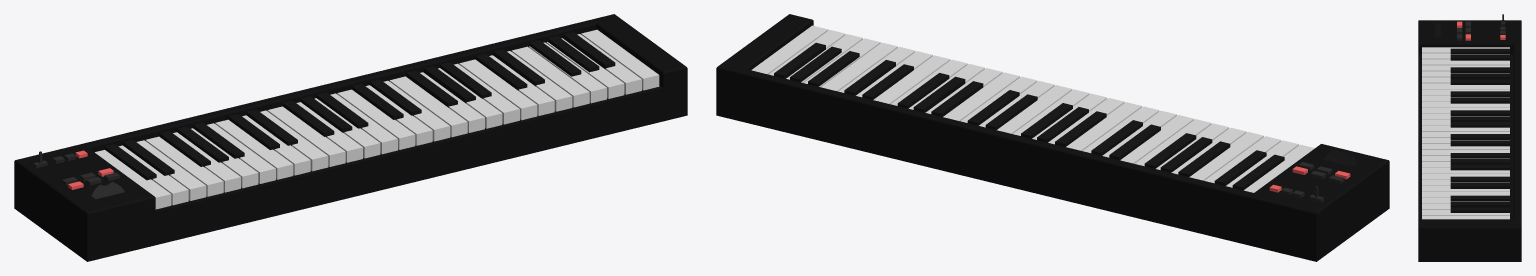
File: Midi Keyboard09.fbx
3 views of the same model, side by side, from view 1: azimuth 30°, elevation 25°; view 2: azimuth 150°, elevation 25°; view 3: azimuth 270°, elevation 25° (orthographic). The views are drawn at different scales.
Visible parts, largest first — view 1: 49keysmidi.010; view 2: 49keysmidi.010; view 3: 49keysmidi.010.
Part boxes in pixels (x1,y1,x2,y2): 49keysmidi.010: (14, 14, 687, 261); 49keysmidi.010: (716, 14, 1389, 261); 49keysmidi.010: (1418, 14, 1521, 261).
Size of the model in its own units: 80 by 8.04 by 16.84.
